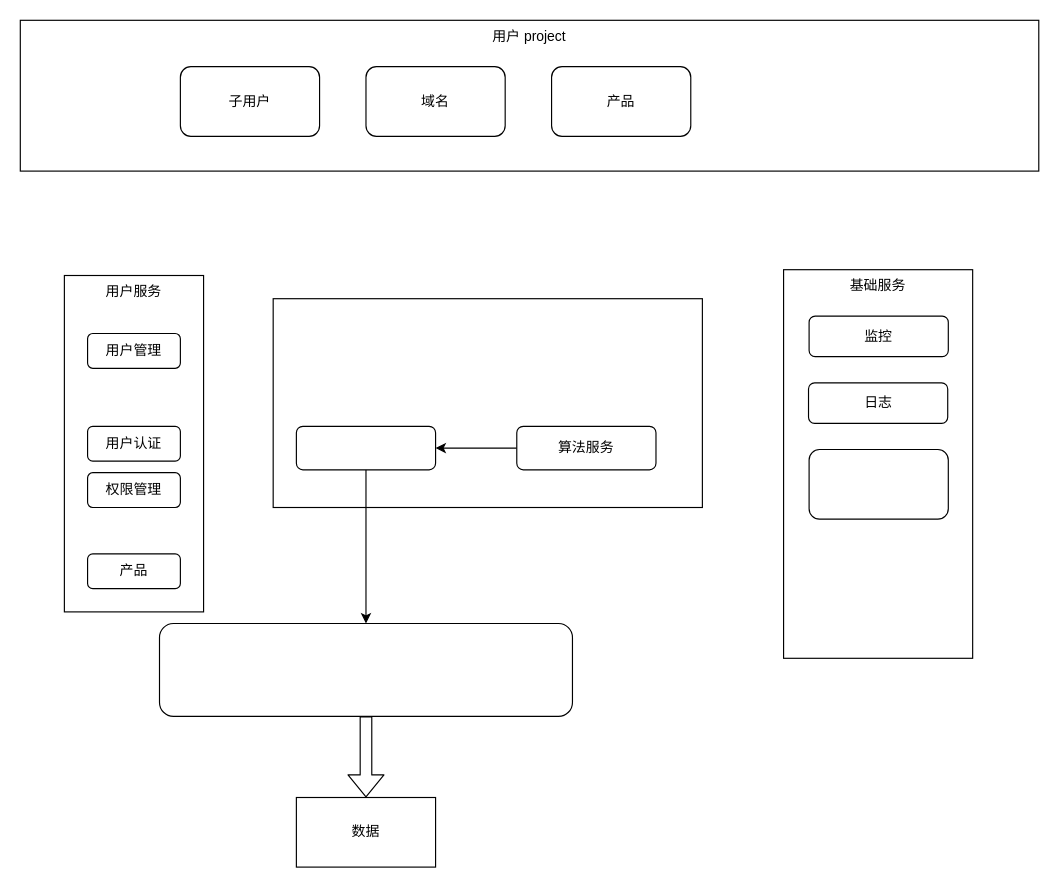
Some shapes in this 1059 by 887 pixel diagram are drawn without their labels. Here are the shapes that lost their labels. From the top down, the centre of each, then its label:
At (x=365, y=447): "业务服务".
At (x=878, y=483): "部署".
At (x=365, y=669): "数据接口".
